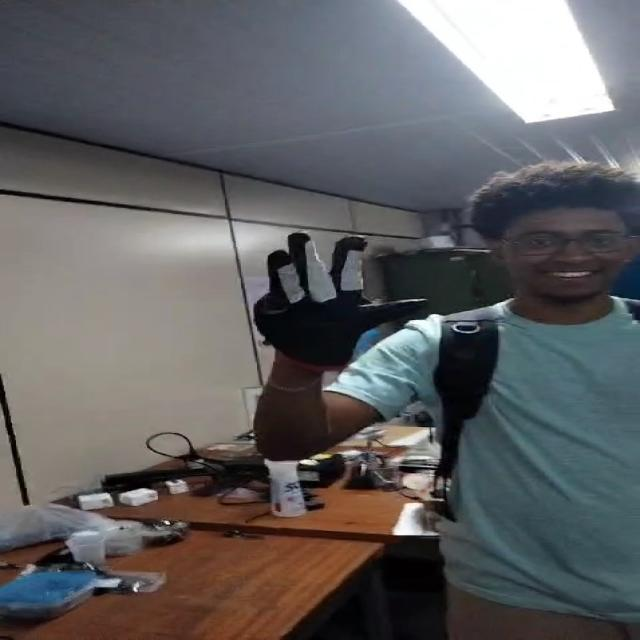Gloves: (248, 231, 440, 366)
